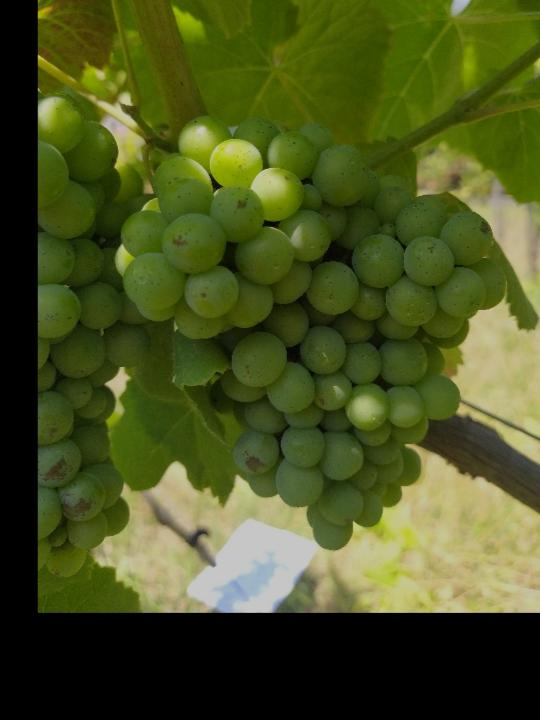grape: (110, 114, 504, 551)
